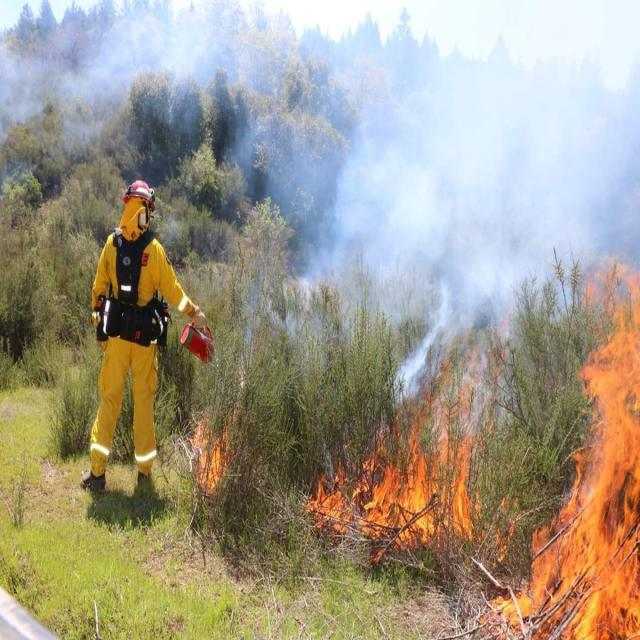Fire: (494, 241, 640, 640), (289, 345, 504, 571), (174, 363, 242, 510)
Smoke: (230, 0, 640, 363), (3, 0, 262, 174), (382, 284, 460, 399)
